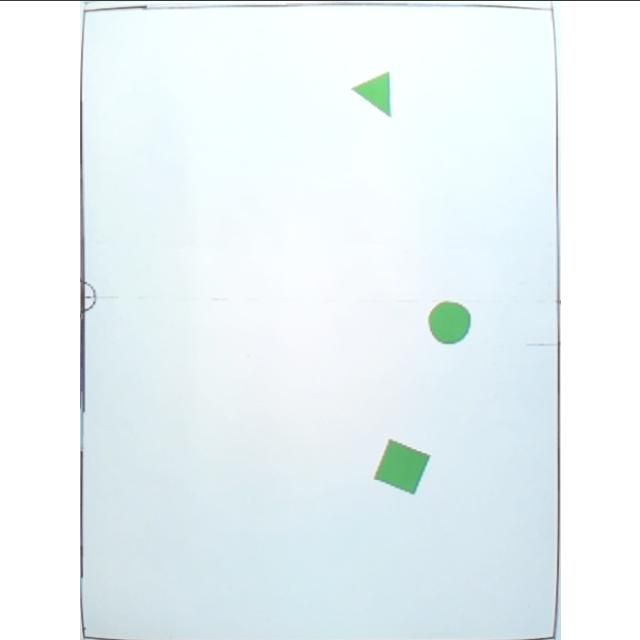greenCircle: (426, 300, 470, 344)
greenSquare: (372, 436, 430, 496)
greenTriangle: (350, 68, 392, 118)
